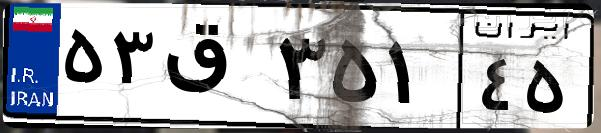1: (385, 28, 445, 110)
3: (270, 28, 330, 110), (110, 28, 158, 98)
4: (475, 38, 525, 113)
5: (330, 28, 385, 110), (57, 26, 110, 100), (525, 38, 570, 115)
ق: (158, 20, 270, 120)
